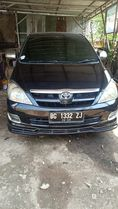plate: (49, 110, 82, 122)
